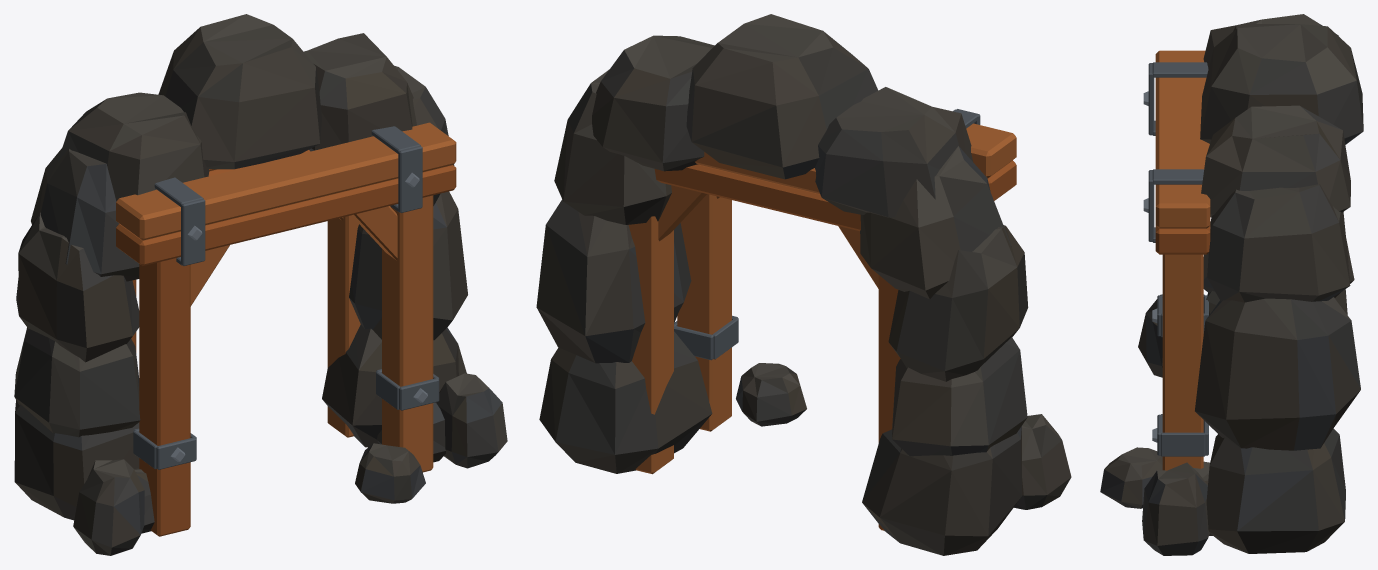
Rendered from Mine Entrance Wooden Portal.glb.
3 renders of one model, left to right at view 1: azimuth 30°, elevation 25°; view 2: azimuth 150°, elevation 25°; view 3: azimuth 270°, elevation 25°, orthographic. The views are drawn at different scales.
Visible parts, largest first — view 1: Mine Entrance Wooden Portal.Static; view 2: Mine Entrance Wooden Portal.Static; view 3: Mine Entrance Wooden Portal.Static.
Boxes of the visible parts, left/top/right/bottom form: Mine Entrance Wooden Portal.Static: left=14, top=14, right=507, bottom=555; Mine Entrance Wooden Portal.Static: left=536, top=14, right=1071, bottom=555; Mine Entrance Wooden Portal.Static: left=1100, top=14, right=1363, bottom=555.
Size of the model in its own units: 3.7 by 3.54 by 1.98.
